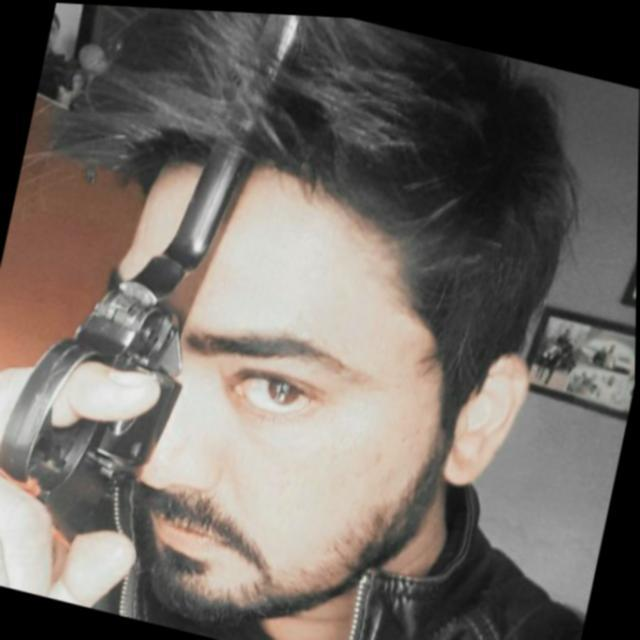weapon: (0, 0, 321, 635)
